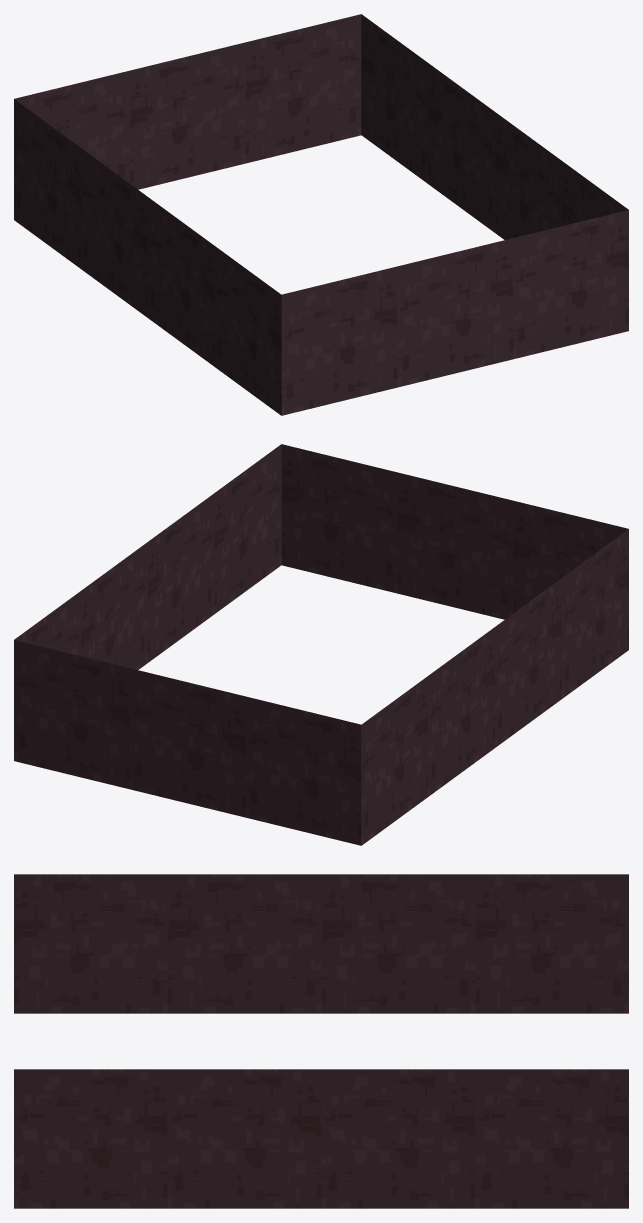
The model's file is PoolWallFloor.fbx.
3 renders of one model, top to bottom at view 1: azimuth 30°, elevation 25°; view 2: azimuth 150°, elevation 25°; view 3: azimuth 270°, elevation 25°, orthographic. The views are drawn at different scales.
Parts seen in each view (by area): view 1: PoolWallFloor; view 2: PoolWallFloor; view 3: PoolWallFloor.
Part boxes in pixels (<box>): PoolWallFloor: <box>14,14,628,415</box>; PoolWallFloor: <box>14,444,628,845</box>; PoolWallFloor: <box>14,874,628,1208</box>.
Size of the model in its own units: 300 by 100 by 400.
